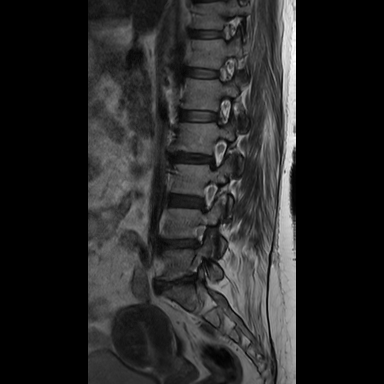RFS0: (194, 134, 234, 177), (189, 178, 226, 219), (204, 92, 239, 132)
RFS2: (188, 219, 217, 256)
